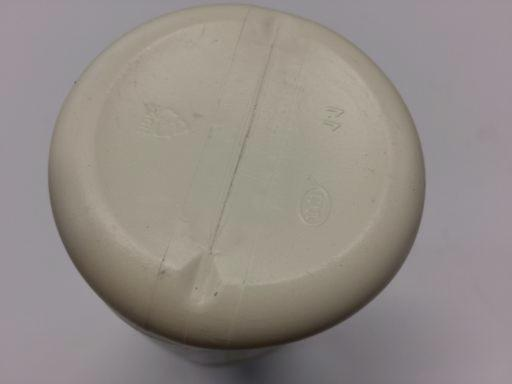plastic: (44, 4, 428, 374)
